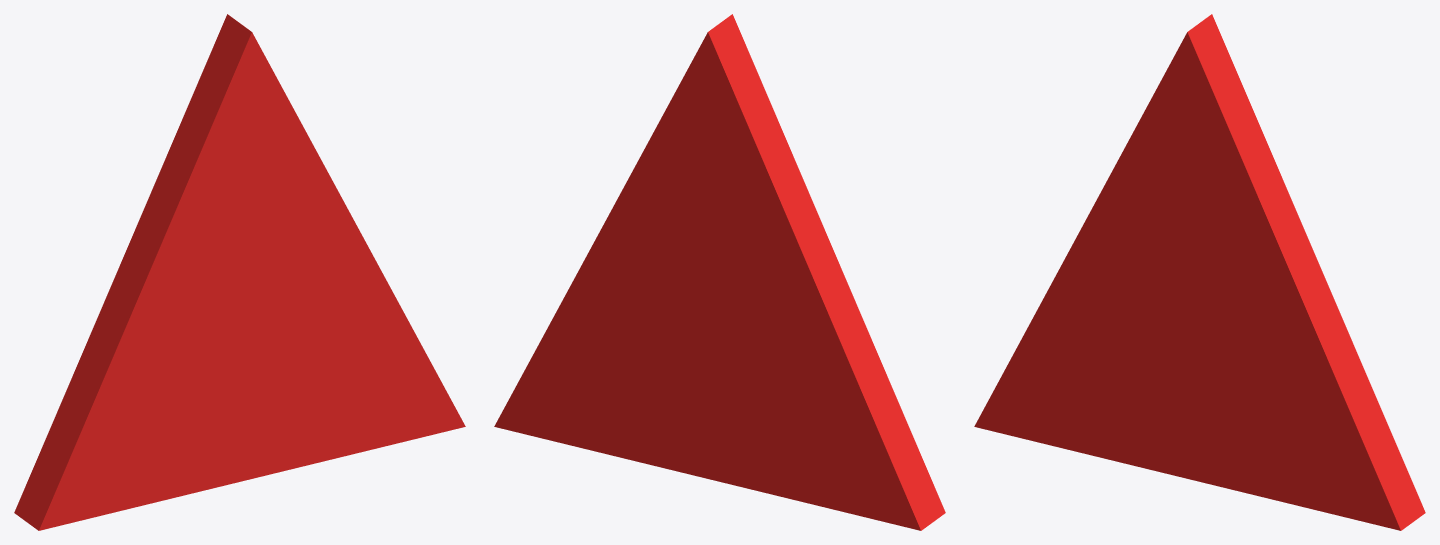
File: arrow.glb
3 views of the same model, side by side, from view 1: azimuth 30°, elevation 25°; view 2: azimuth 150°, elevation 25°; view 3: azimuth 330°, elevation 25° (orthographic).
Parts seen in each view (by area): view 1: Cube; view 2: Cube; view 3: Cube.
Boxes of the visible parts, box(x1,y1,x2,y2) form: Cube: box(14, 14, 465, 530); Cube: box(494, 14, 945, 530); Cube: box(974, 14, 1425, 530).
Size of the model in its own units: 2 by 2 by 0.2.
